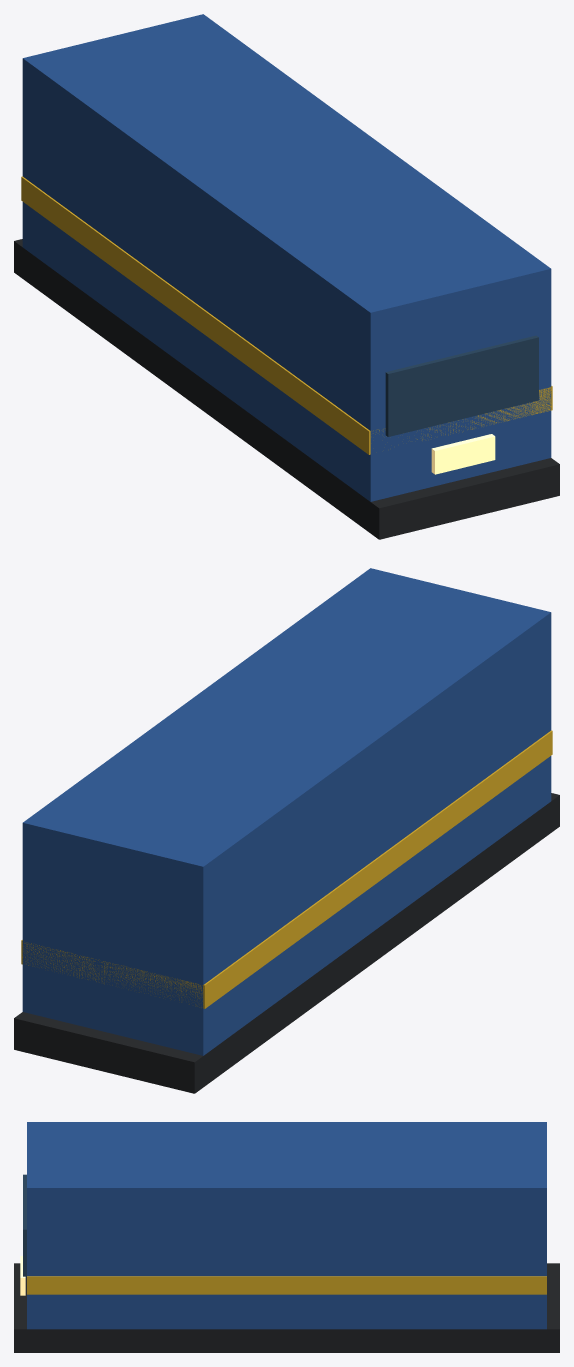
The model's file is vehicle_diesel_loco.glb.
The picture shows the model from 3 angles, top to bottom: view 1: azimuth 30°, elevation 25°; view 2: azimuth 150°, elevation 25°; view 3: azimuth 270°, elevation 25°; orthographic projection. The views are drawn at different scales.
Parts seen in each view (by area): view 1: vehicle_diesel_loco; view 2: vehicle_diesel_loco; view 3: vehicle_diesel_loco.
Part boxes in pixels (x1=…): vehicle_diesel_loco: x1=14, y1=14, x2=559, y2=539; vehicle_diesel_loco: x1=14, y1=568, x2=559, y2=1093; vehicle_diesel_loco: x1=14, y1=1122, x2=559, y2=1352.
Bounding box in the file's own units: 0.122 × 0.14 × 0.42.
